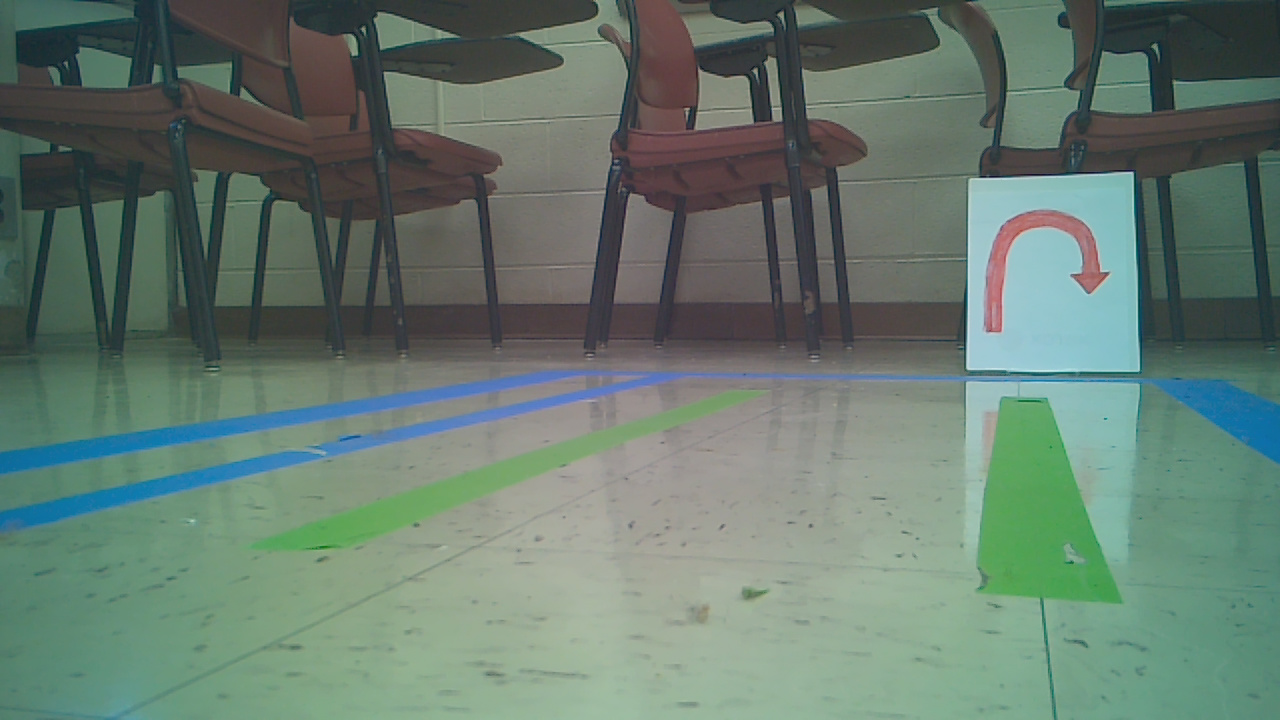greenline: (256, 389, 760, 550), (984, 399, 1119, 602)
uturn: (983, 205, 1109, 337)
